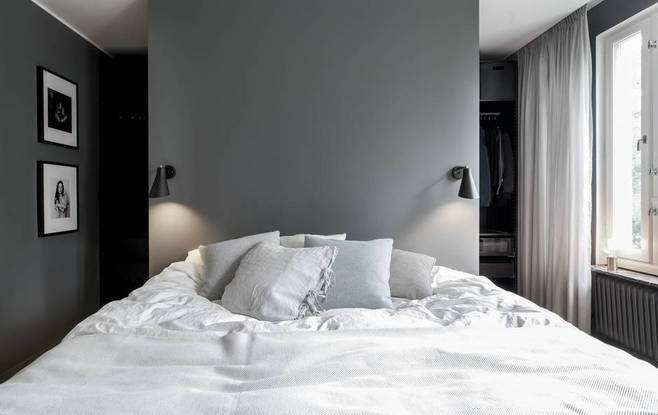床: (0, 289, 657, 415)
枕头: (172, 233, 449, 321)
灯: (447, 160, 482, 203), (148, 161, 178, 203)
